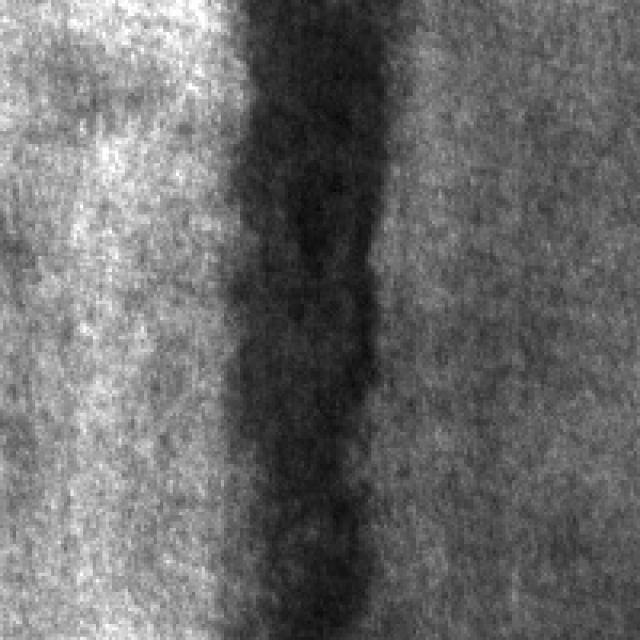patches: (221, 0, 400, 634)
